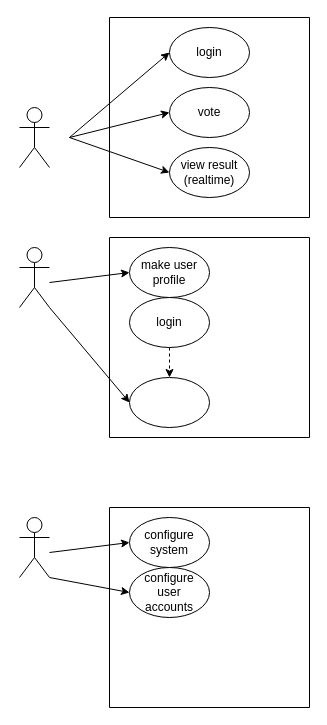
Some shapes in this 327 by 725 pixel diagram are drawn without their labels. Each missing label, with the centre of its shape:
"Admin" belongs at point (34, 547).
"make poll" belongs at point (169, 402).
"User" belongs at point (34, 277).
"Voter" belongs at point (34, 137).
